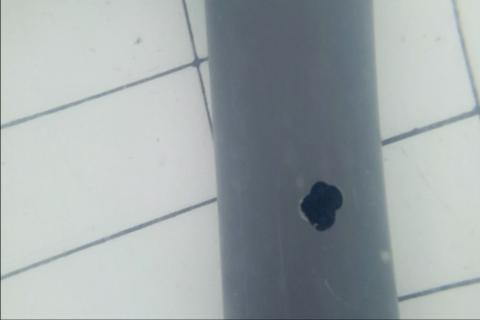kebocoran: (296, 177, 345, 234)
